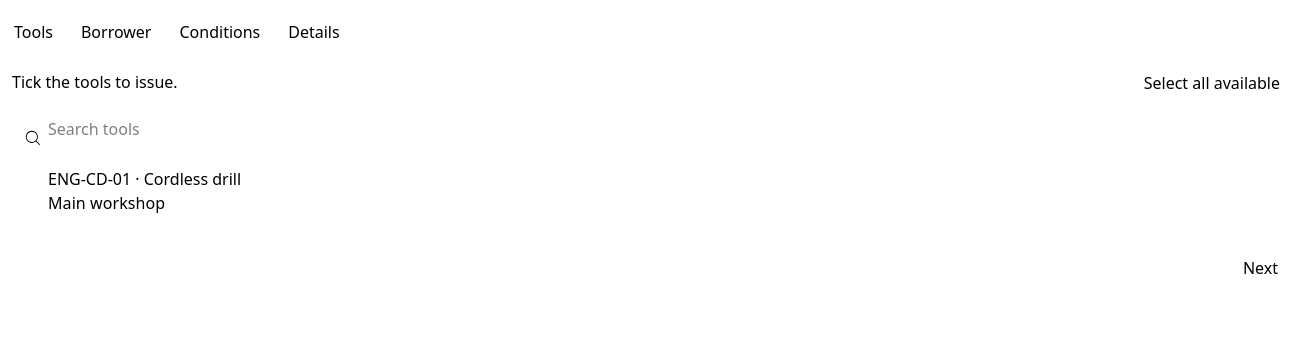
Test: BulkIssueForm borrower step › refused Next focuses the step message
Click the button "Next".
click(1260, 268)  # box [1229,250,1292,286]
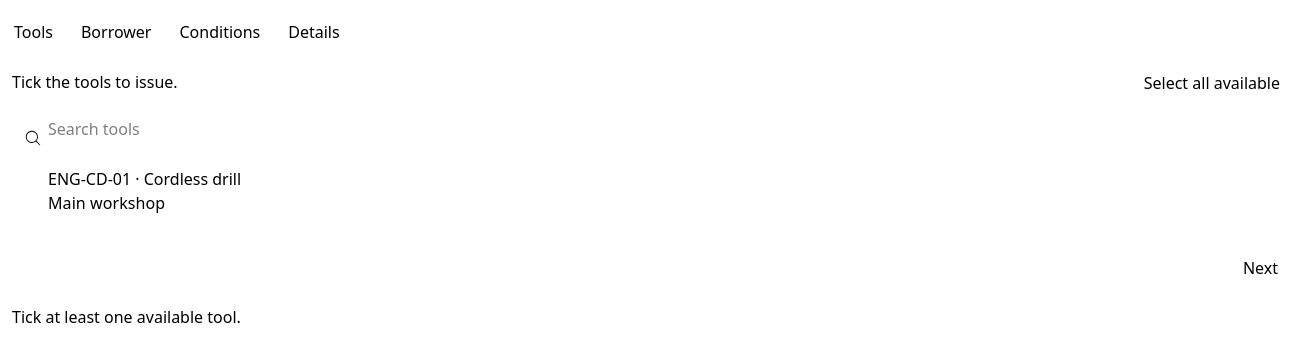
Expected: the message reads "Tick at least one available tool.", [12,306,241,328]
